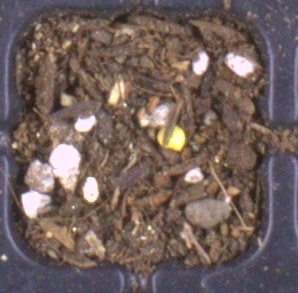chilli seed: (156, 124, 186, 152)
